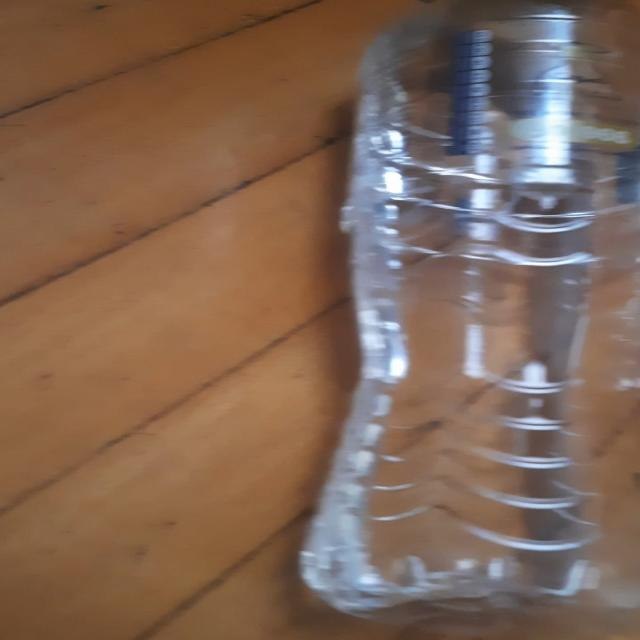Plastic: (295, 0, 640, 640)
